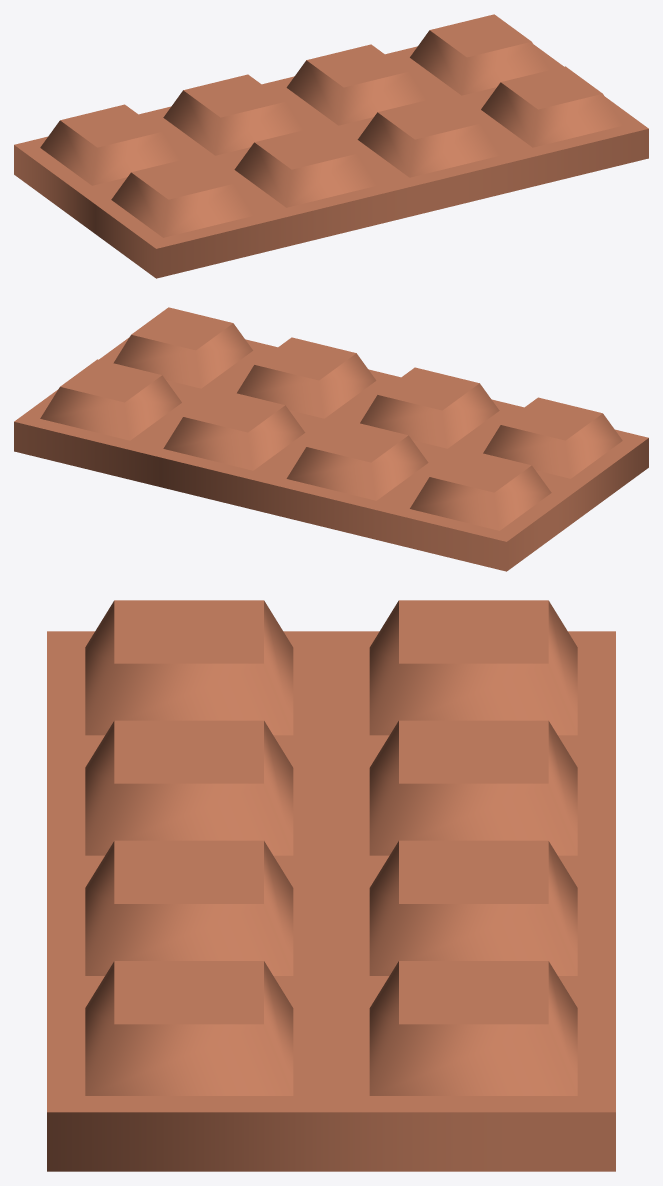
The model's file is chocolate.obj.
3 renders of one model, top to bottom at view 1: azimuth 30°, elevation 25°; view 2: azimuth 150°, elevation 25°; view 3: azimuth 270°, elevation 25°, orthographic. The views are drawn at different scales.
Parts seen in each view (by area): view 1: chocolate; view 2: chocolate; view 3: chocolate.
Part boxes in pixels (box(x1,y1,x2,y2)): chocolate: box(14, 14, 648, 278); chocolate: box(14, 307, 648, 571); chocolate: box(47, 600, 615, 1171).
Bounding box in the file's own units: 0.2924 × 0.0337 × 0.1462.
